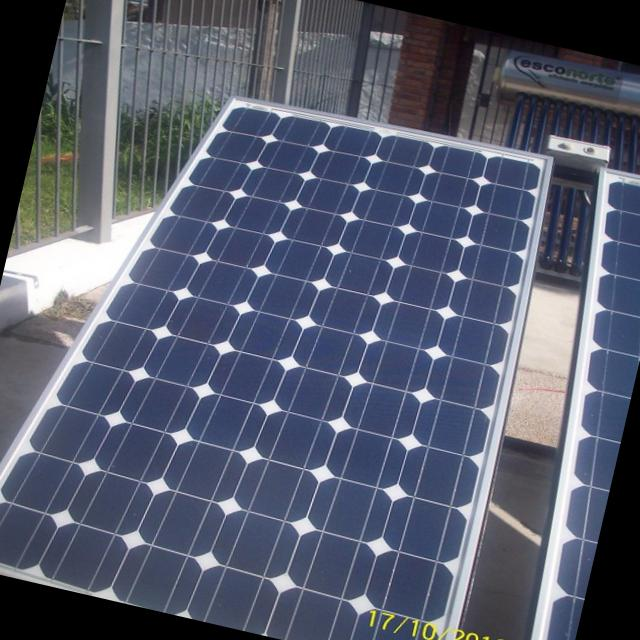no faulty: (0, 108, 534, 640)
